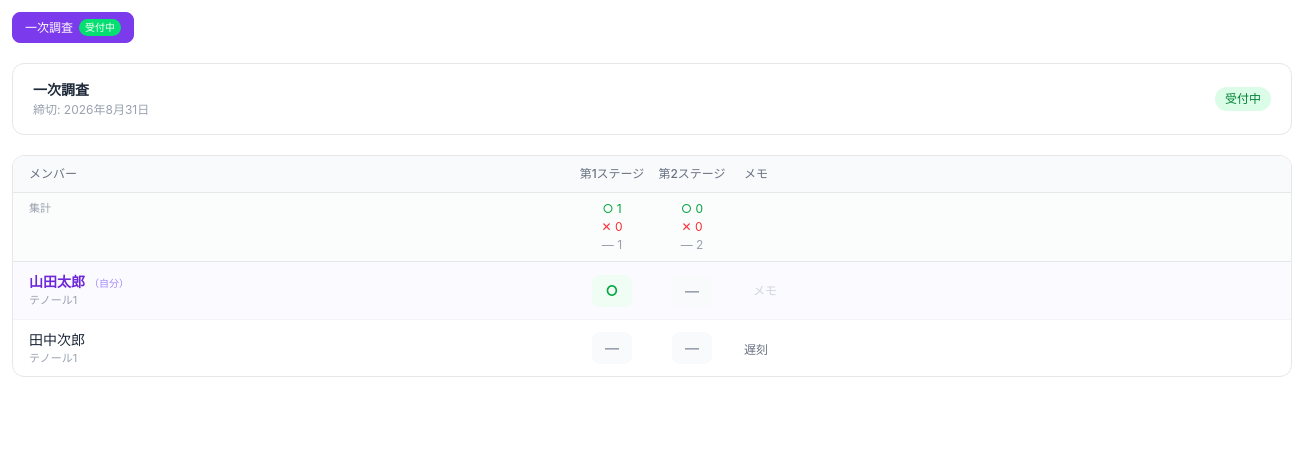
Test: SurveyTab（失敗の表示） › 回答セルの保存に失敗したら元の回答に戻してエラーを表示する
Click the button titled "参加" at (612, 291), box [592,275,632,307]
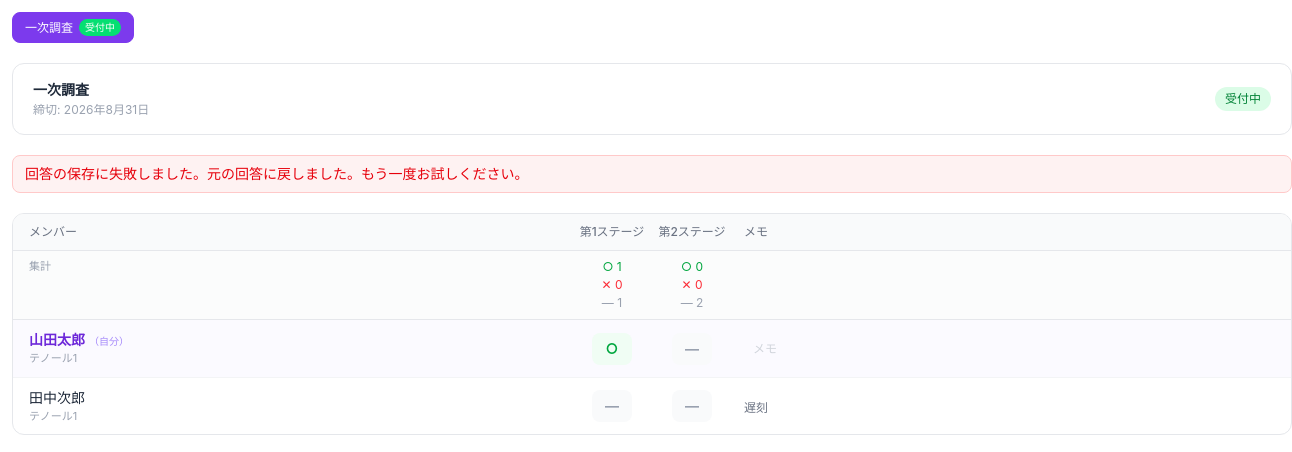
expect the button titled "参加" is shown: met, box [592,333,632,365]
expect the message shows "回答の保存に失敗しました。元の回答に戻しました。": met, box [25,165,529,182]
